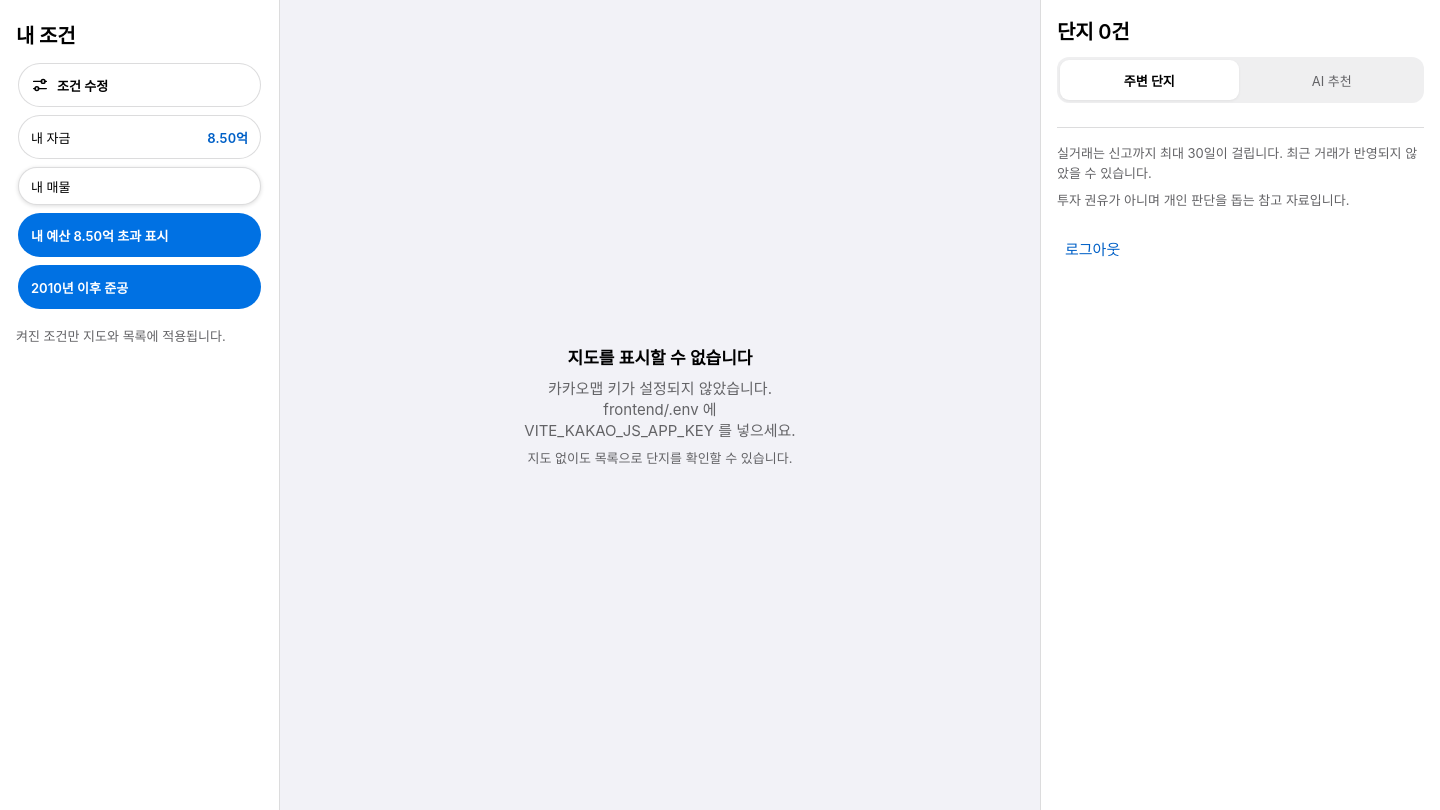
Test: 지도 화면 › 이 주변에서 찾기 › 좌표 없는 단지가 빠진다는 서버 notes 를 결과에 그대로 보여준다
Click the tab "AI 추천": [1332, 80] box [1242,60,1421,100]
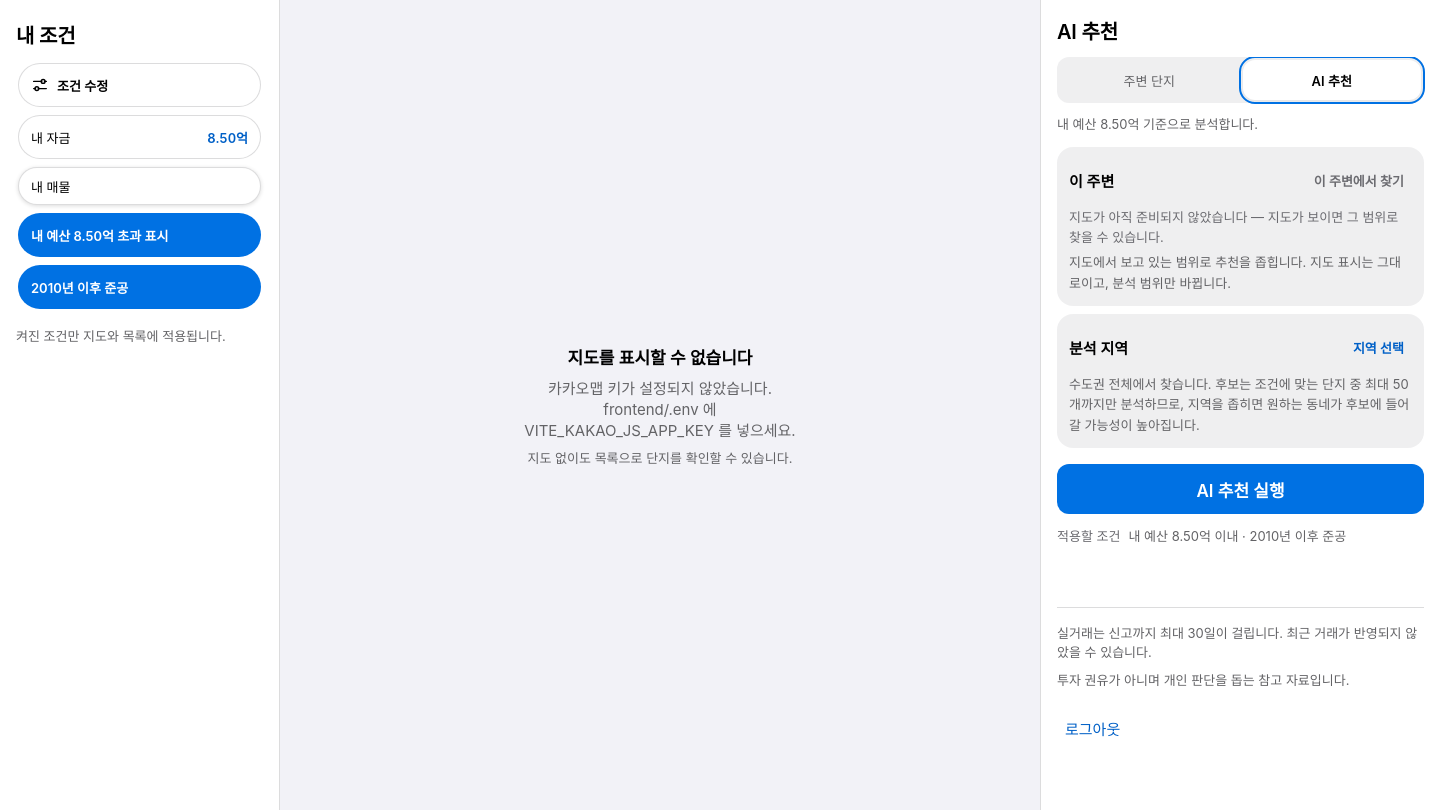
Click the button "이 주변에서 찾기": [1359, 180] box [1306,158,1412,202]
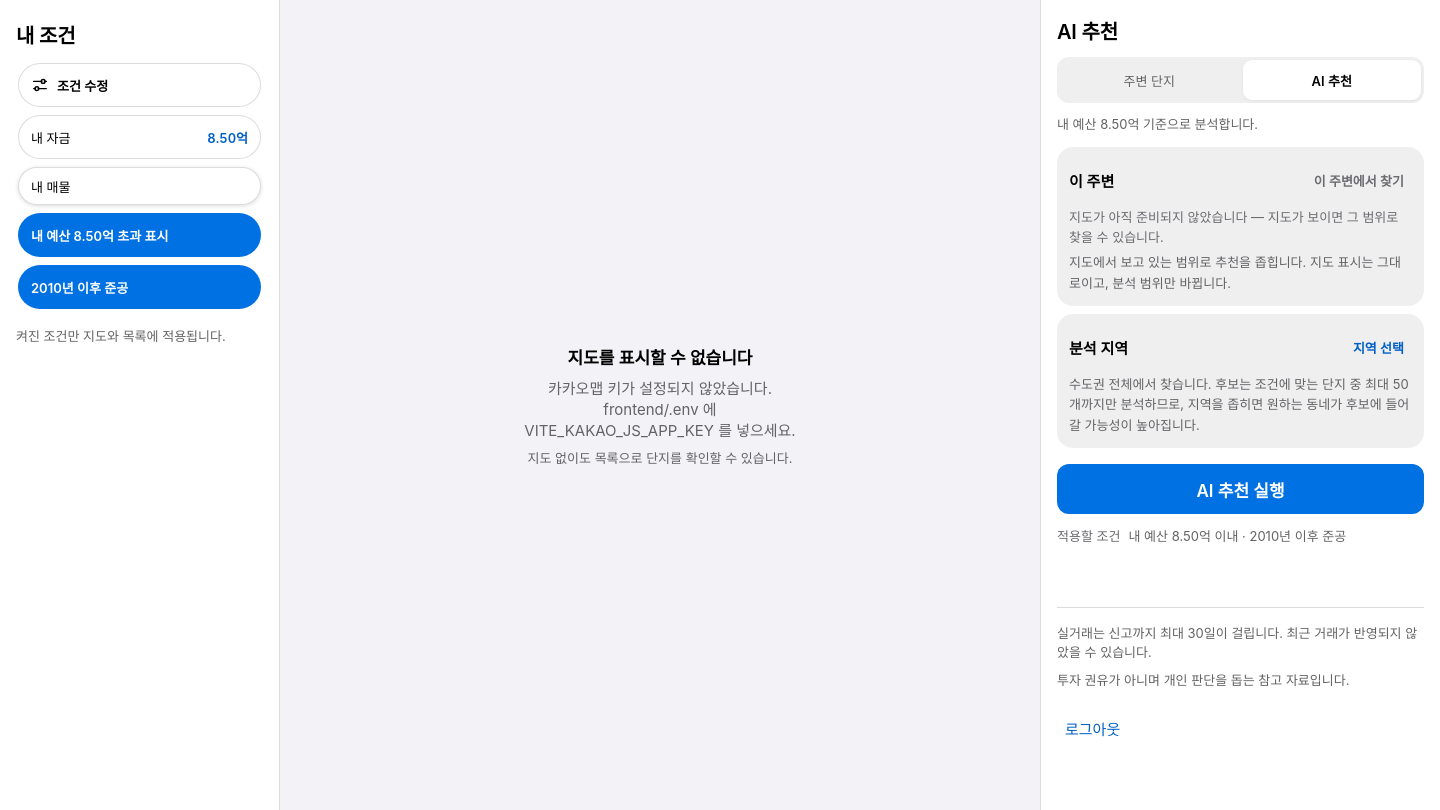
Click the button "AI 추천 실행": [1240, 489] box [1057,464,1424,514]
(page scrolled)
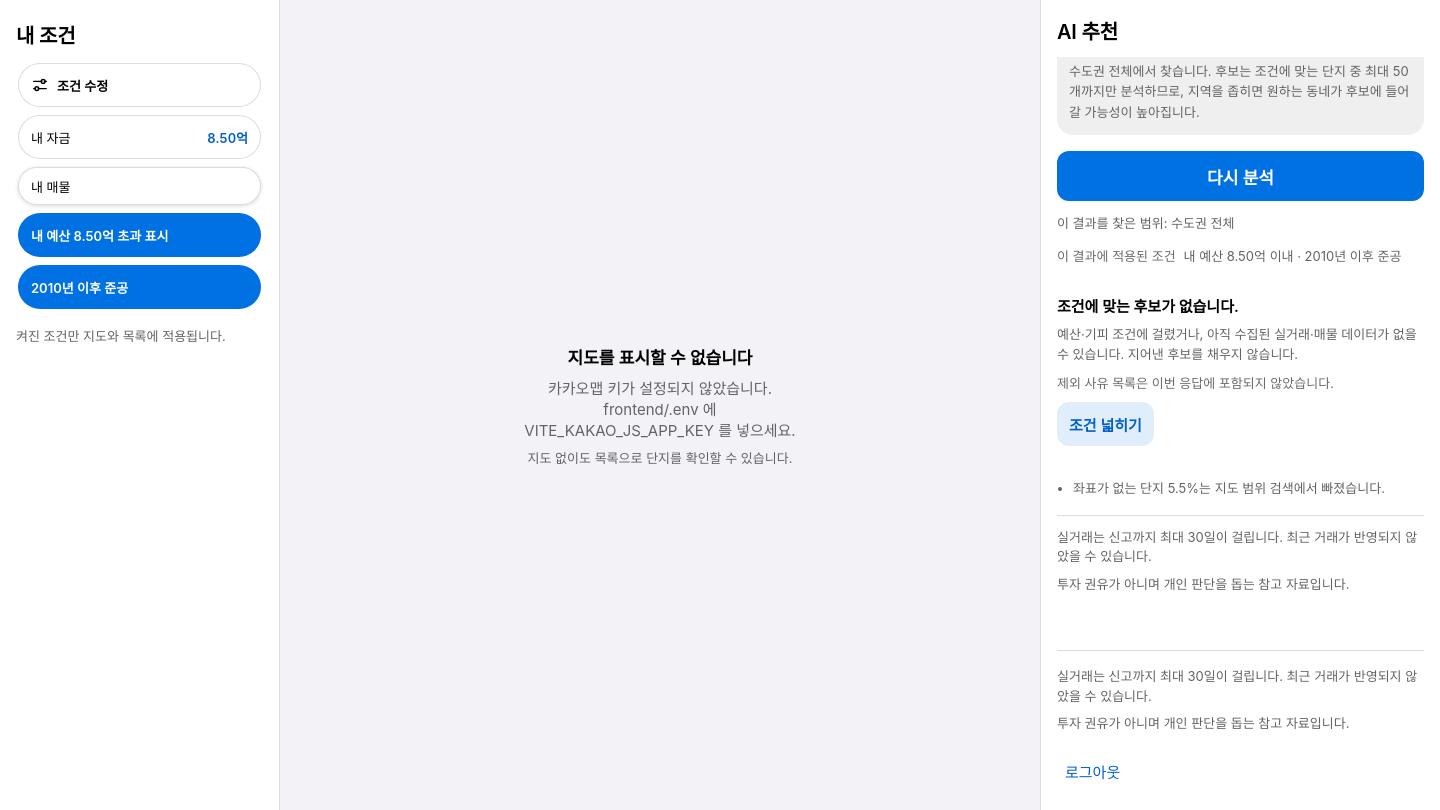
Now the list item "좌표가 없는 단지 5.5%는 지도 범위 검색에서 빠졌습니다." is shown, box [1073,478,1424,499]
